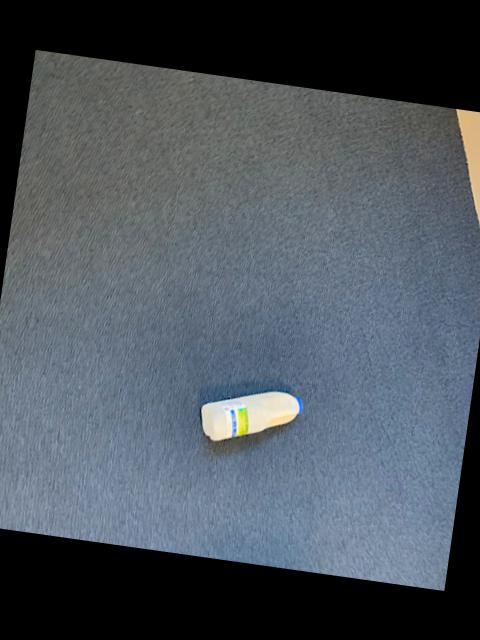plastic: (200, 392, 301, 441)
